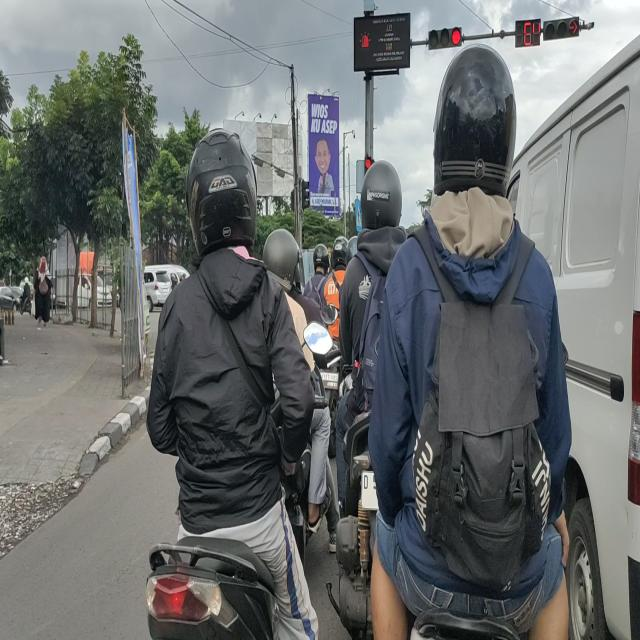helmet: (436, 53, 516, 187), (186, 130, 256, 248), (354, 152, 404, 230), (265, 226, 297, 292), (312, 245, 330, 278), (332, 236, 350, 269)
